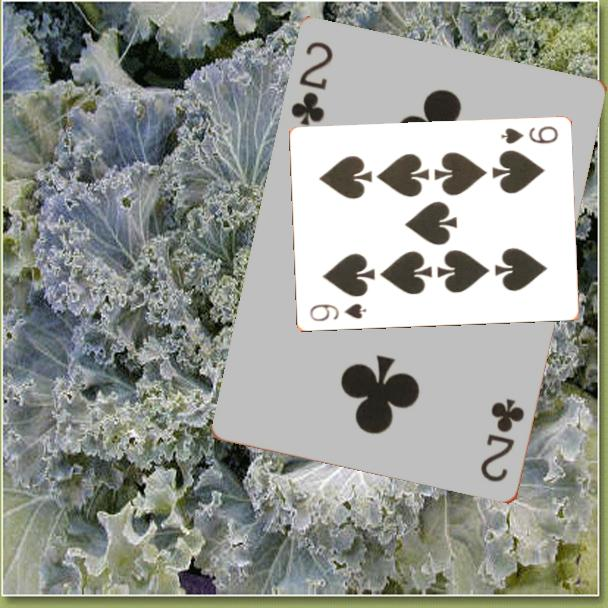c02: (477, 395, 528, 486), (287, 38, 337, 130)
s09: (306, 300, 369, 325), (497, 123, 561, 147)
